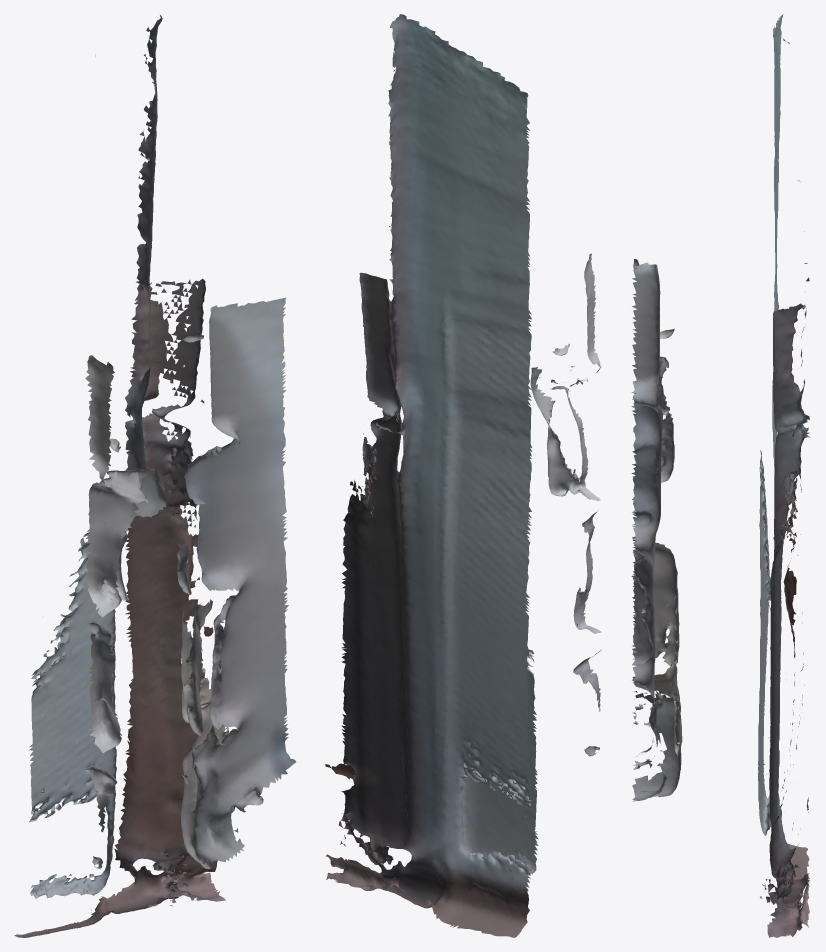
File: apartment-full-45-27ea6092f0ab.glb
3 renders of one model, left to right at view 1: azimuth 30°, elevation 25°; view 2: azimuth 150°, elevation 25°; view 3: azimuth 270°, elevation 25°, orthographic. The views are drawn at different scales.
Bounding box in the file's own units: 0.436 × 1.9 × 0.352.
